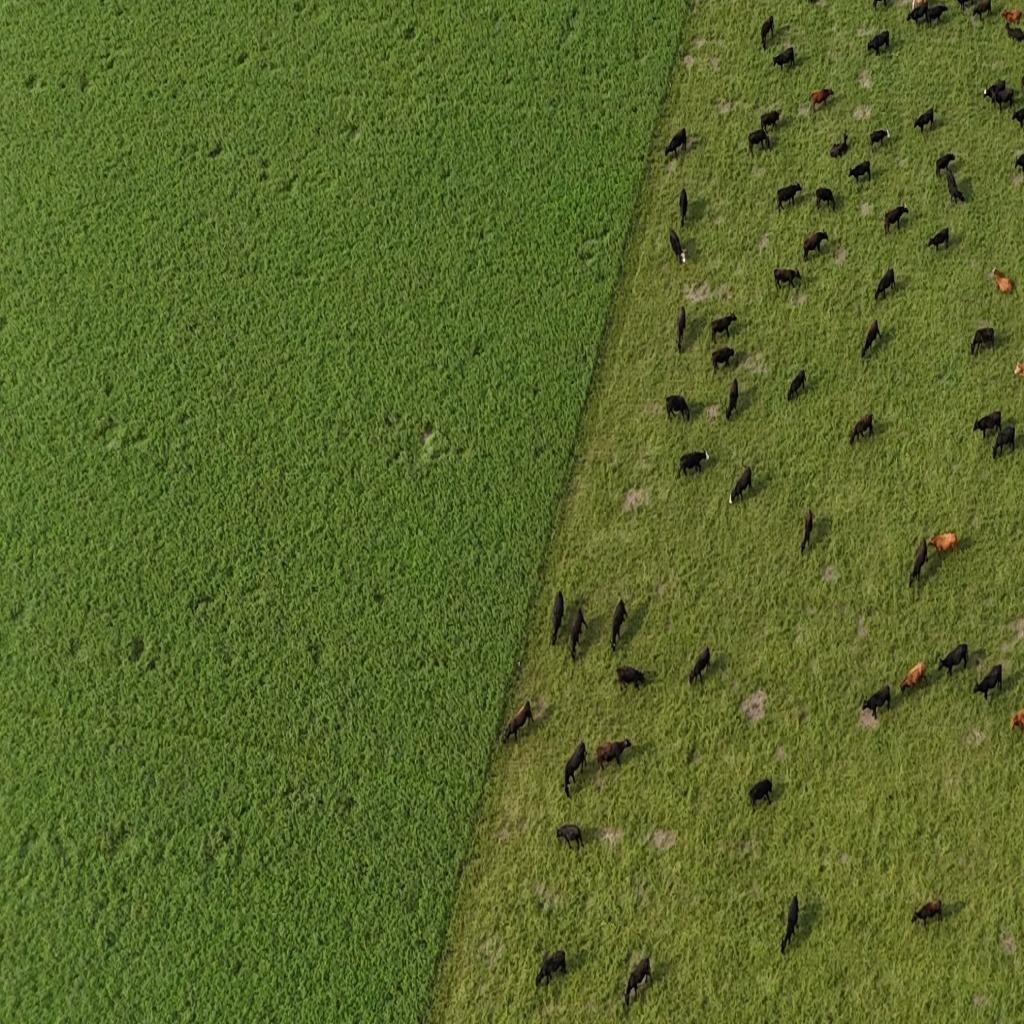cow: (623, 956, 652, 1008), (503, 700, 533, 744), (564, 741, 586, 796), (536, 950, 566, 988), (596, 739, 631, 771), (974, 663, 1003, 701), (569, 606, 588, 663), (938, 644, 968, 680), (781, 894, 799, 954), (860, 686, 890, 721), (984, 80, 1016, 112), (912, 898, 943, 930), (909, 537, 928, 589), (729, 466, 753, 506), (610, 598, 627, 651), (678, 450, 709, 479), (689, 646, 711, 686), (616, 664, 647, 692), (992, 424, 1016, 460), (900, 661, 926, 694), (849, 412, 874, 446), (974, 410, 1002, 440), (710, 314, 738, 344), (927, 531, 958, 557), (748, 778, 773, 810), (861, 318, 880, 360), (970, 326, 996, 356), (803, 230, 829, 260), (556, 824, 583, 852), (945, 168, 966, 204), (550, 591, 564, 645), (874, 266, 896, 300), (776, 184, 802, 212), (711, 346, 735, 376), (884, 204, 908, 234), (664, 128, 686, 160), (774, 267, 801, 293), (810, 87, 834, 114), (666, 394, 689, 422), (848, 160, 872, 186), (991, 267, 1014, 294), (748, 129, 770, 157), (787, 370, 806, 402), (669, 228, 685, 266), (725, 377, 739, 420), (801, 506, 813, 555), (924, 2, 948, 26), (760, 108, 782, 134), (914, 107, 935, 134), (927, 227, 949, 252), (867, 31, 889, 56), (773, 46, 794, 72), (935, 152, 956, 178), (908, 0, 930, 24), (815, 187, 836, 212), (830, 134, 850, 160), (676, 304, 686, 354), (971, 0, 993, 22), (1003, 21, 1024, 44), (761, 15, 774, 51), (870, 128, 890, 150), (1000, 8, 1022, 25), (679, 188, 688, 229), (1015, 708, 1024, 733), (1016, 106, 1024, 131), (872, 0, 889, 10), (1018, 152, 1024, 175), (1017, 358, 1024, 377)
